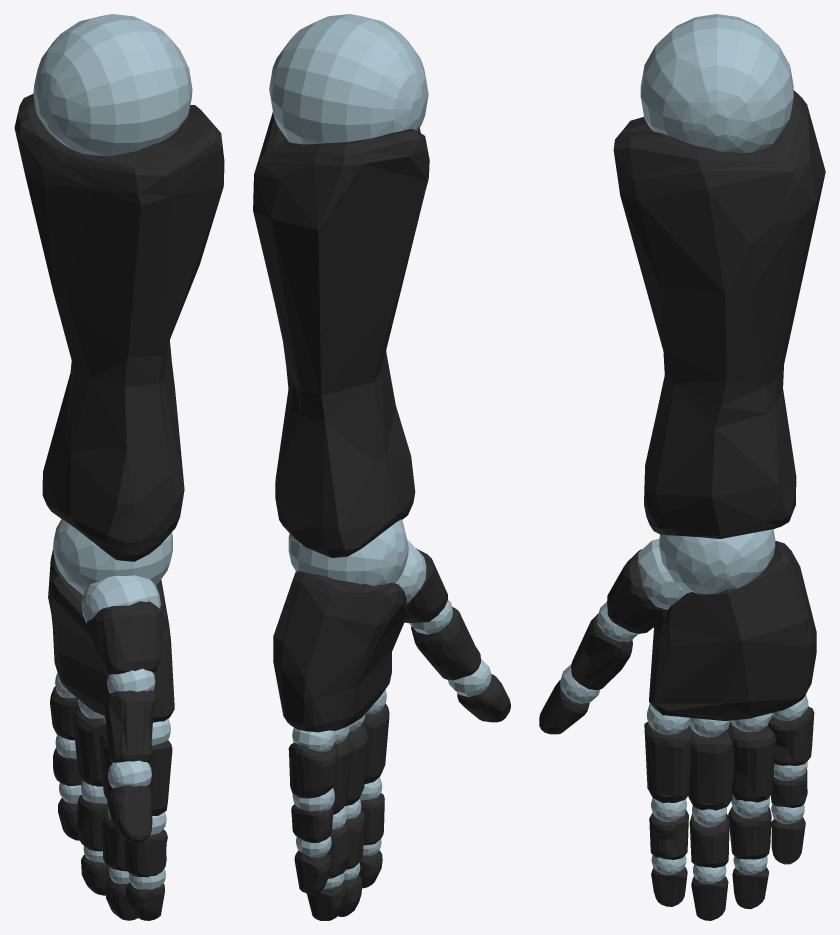
Rendered from manoI.obj.
3 renders of one model, left to right at view 1: azimuth 30°, elevation 25°; view 2: azimuth 150°, elevation 25°; view 3: azimuth 270°, elevation 25°, orthographic.
Parts seen in each view (by area): view 1: brazoI_Alpha_HighJointsGeo.002; view 2: brazoI_Alpha_HighJointsGeo.002; view 3: brazoI_Alpha_HighJointsGeo.002.
Part boxes in pixels (x1,y1,x2,y2): brazoI_Alpha_HighJointsGeo.002: [14, 14, 224, 920]; brazoI_Alpha_HighJointsGeo.002: [253, 14, 510, 920]; brazoI_Alpha_HighJointsGeo.002: [539, 14, 825, 920].
Bounding box in the file's own units: 10.91 × 55.1 × 16.06.
